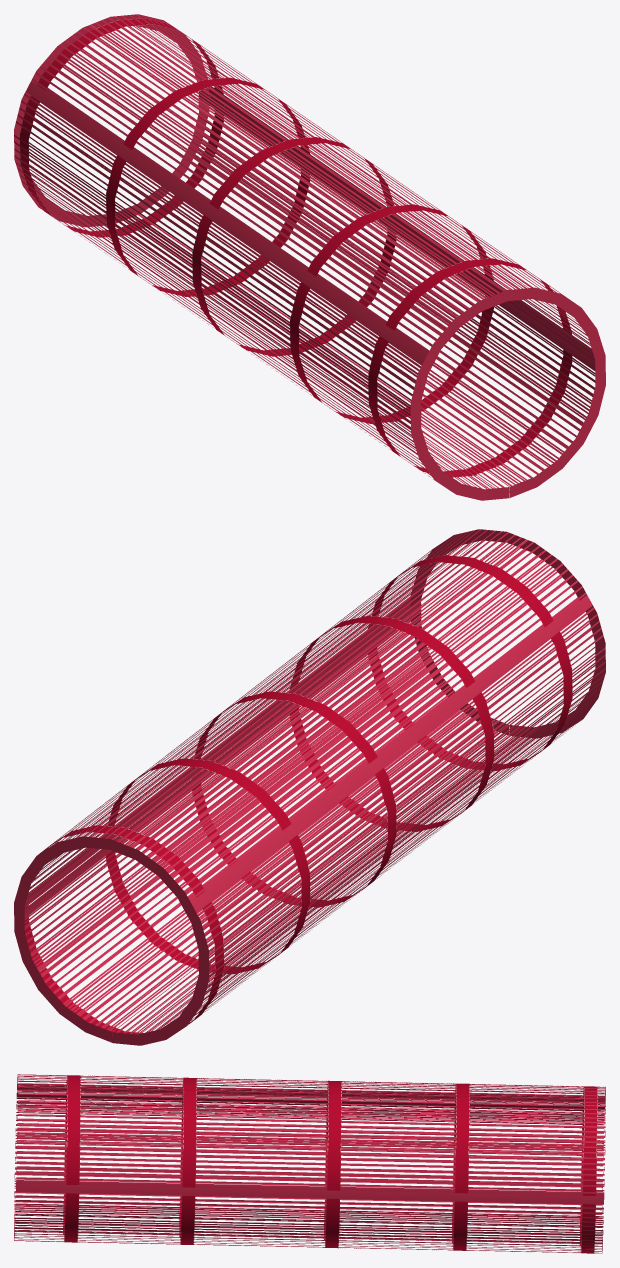
File: strait round.FBX
The picture shows the model from 3 angles, top to bottom: view 1: azimuth 30°, elevation 25°; view 2: azimuth 150°, elevation 25°; view 3: azimuth 270°, elevation 25°; orthographic projection. The views are drawn at different scales.
Parts seen in each view (by area): view 1: Tube001; view 2: Tube001; view 3: Tube001.
Part boxes in pixels (bbox=[...]): Tube001: bbox=[14, 14, 605, 500]; Tube001: bbox=[14, 529, 605, 1045]; Tube001: bbox=[14, 1074, 605, 1253].
Bounding box in the file's own units: 202 × 220 × 715.
Materials: 1 (1 with a texture image).
